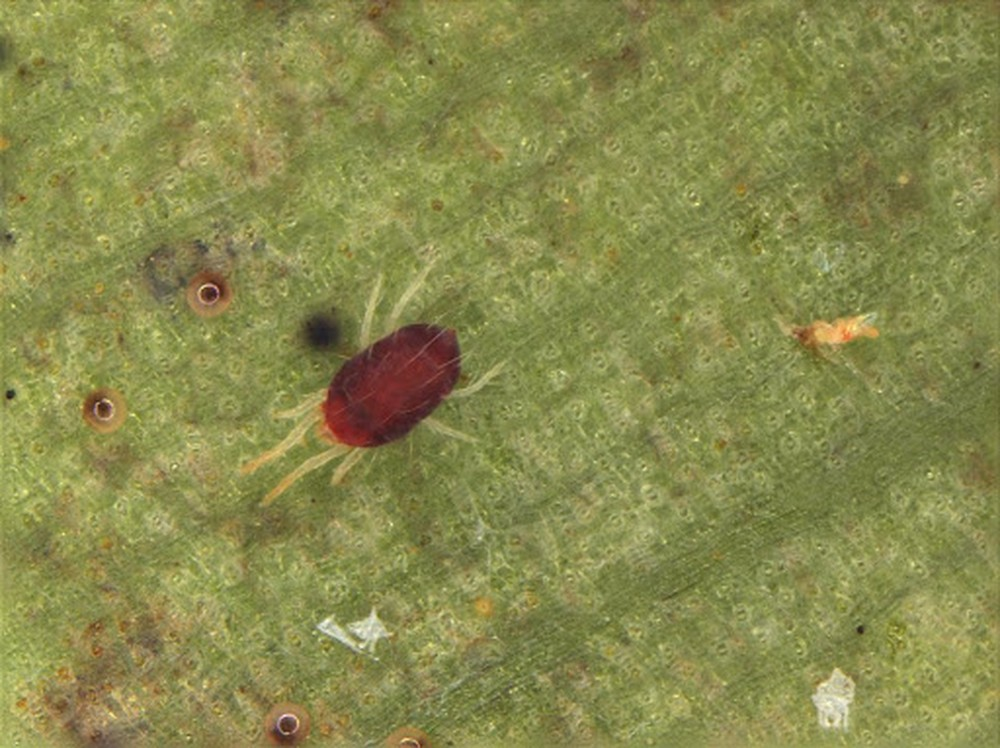Aracnido Rojo: (240, 265, 550, 510)
